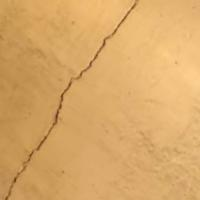crack: (0, 0, 147, 199)
